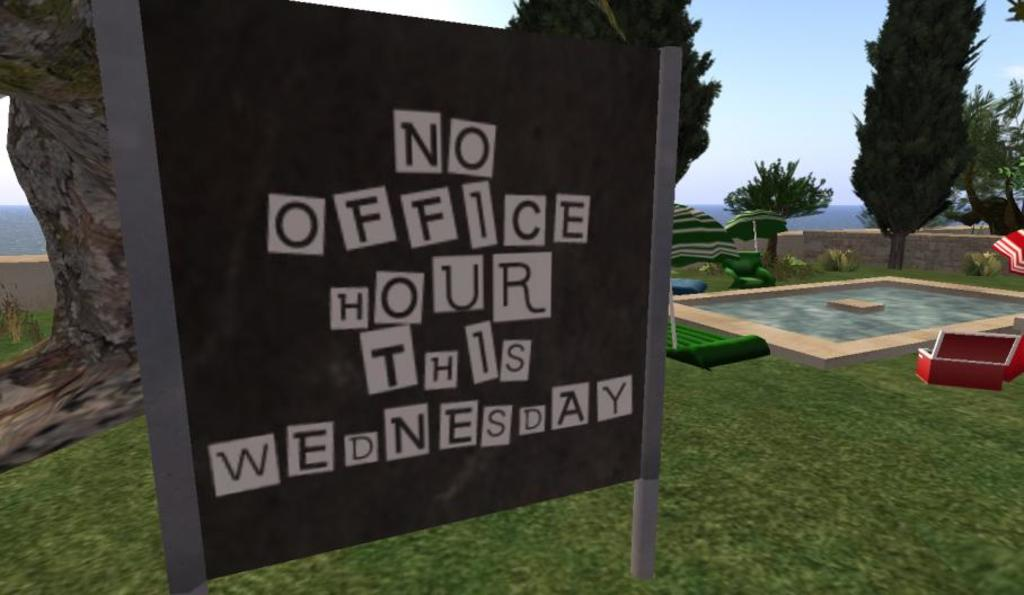Tree: (499, 0, 719, 199), (846, 6, 995, 251), (941, 75, 1022, 237), (709, 153, 837, 220)
